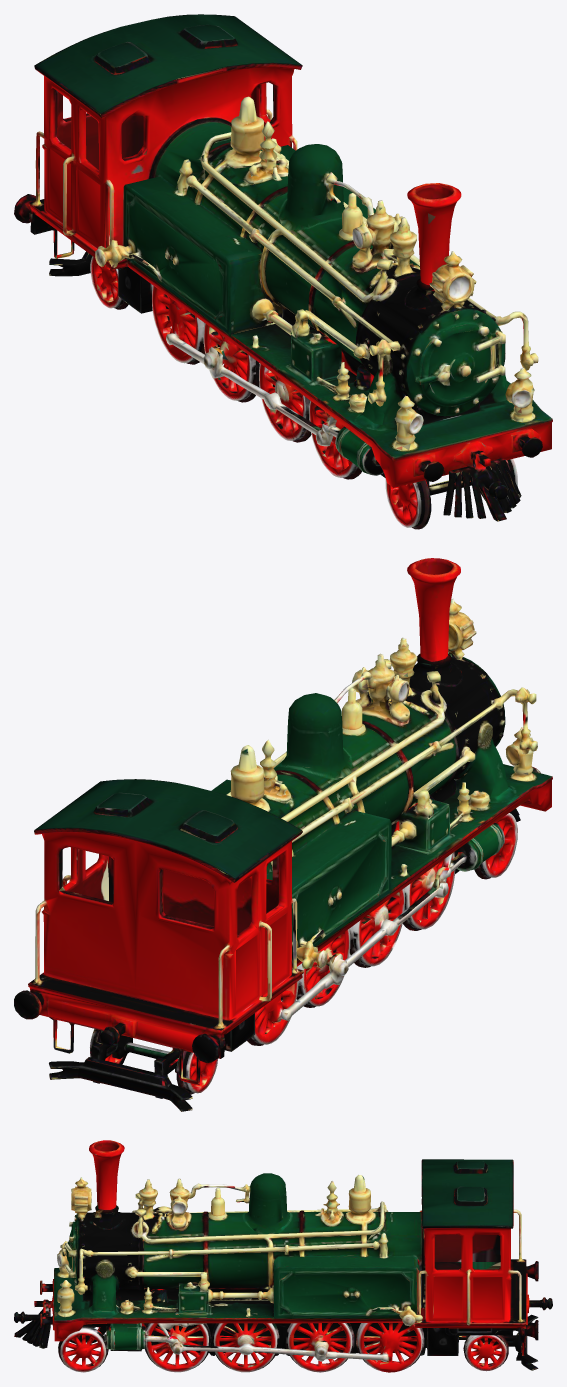
The model's file is loco.glb.
3 views of the same model, one above another, from view 1: azimuth 30°, elevation 25°; view 2: azimuth 150°, elevation 25°; view 3: azimuth 270°, elevation 25° (orthographic). The views are drawn at different scales.
Visible parts, largest first — view 1: loco; view 2: loco; view 3: loco.
Boxes of the visible parts, left/top/right/bottom form: loco: left=14, top=14, right=552, bottom=529; loco: left=14, top=558, right=552, bottom=1111; loco: left=14, top=1140, right=552, bottom=1372.
Bounding box in the file's own units: 0.7515 × 1 × 2.3.
1 material, 1 textured.
